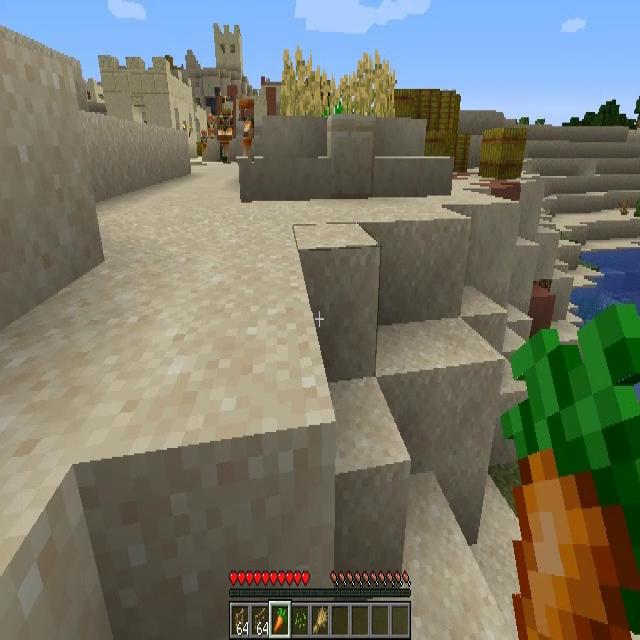people: (236, 99, 254, 163), (217, 96, 233, 162)
